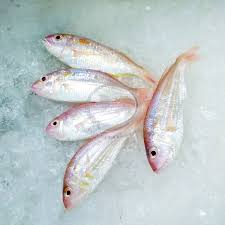Ikan Kerisi: (142, 37, 196, 186), (13, 62, 145, 107), (24, 28, 150, 72), (45, 147, 120, 216), (44, 98, 148, 144)
